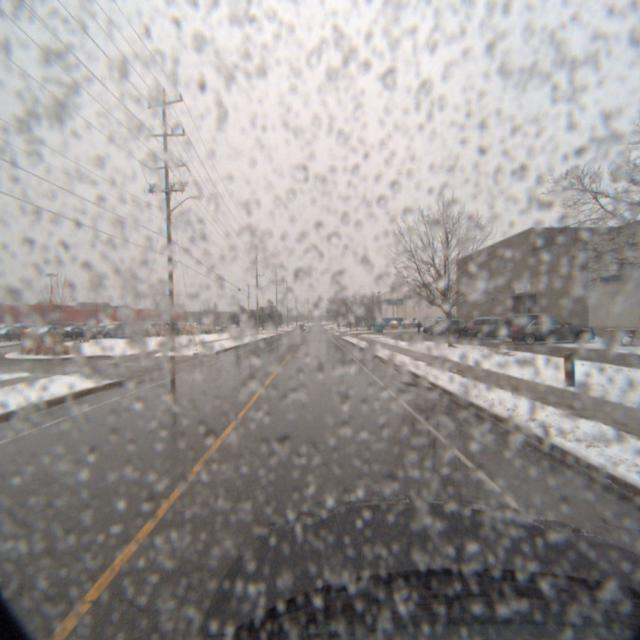Car: (508, 314, 596, 346), (500, 312, 575, 342), (467, 316, 525, 342), (109, 320, 155, 341)
